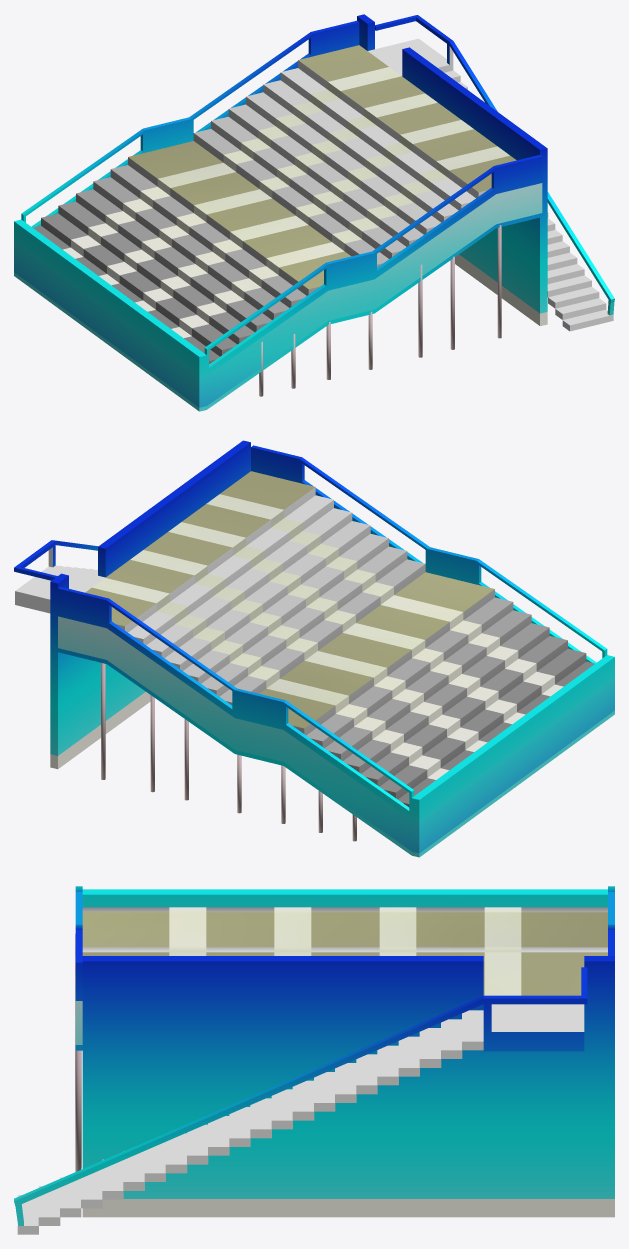
Rendered from platform4.fbx.
The picture shows the model from 3 angles, top to bottom: view 1: azimuth 30°, elevation 25°; view 2: azimuth 150°, elevation 25°; view 3: azimuth 270°, elevation 25°; orthographic projection. The views are drawn at different scales.
Parts seen in each view (by area): view 1: Cube.005; view 2: Cube.005; view 3: Cube.005.
Boxes of the visible parts, left/top/right/bottom form: Cube.005: left=14, top=14, right=614, bottom=411; Cube.005: left=14, top=440, right=614, bottom=857; Cube.005: left=14, top=886, right=614, bottom=1234.
Size of the model in its own units: 1511 by 645 by 1372.
